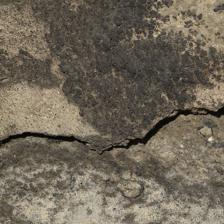Crack: (3, 51, 218, 108)
